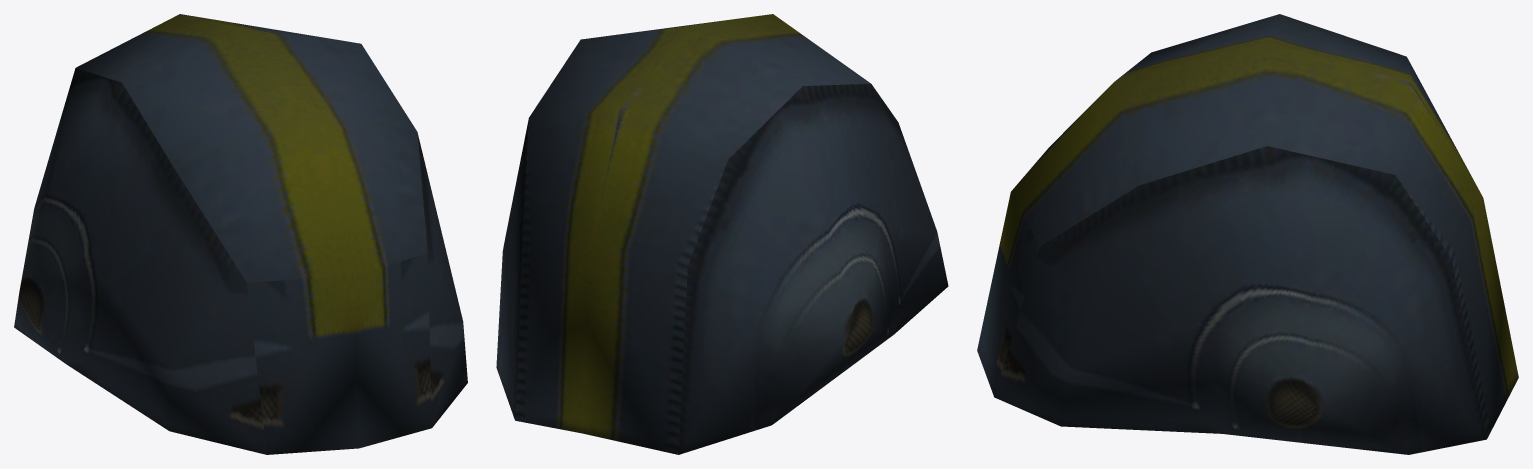
File: Helmet5__MOB.glb
The picture shows the model from 3 angles, left to right: view 1: azimuth 30°, elevation 25°; view 2: azimuth 150°, elevation 25°; view 3: azimuth 270°, elevation 25°; orthographic projection. The views are drawn at different scales.
Visible parts, largest first — view 1: Helmet5; view 2: Helmet5; view 3: Helmet5.
Part boxes in pixels (left/top/right/bottom): Helmet5: left=14, top=14, right=467, bottom=454; Helmet5: left=496, top=14, right=948, bottom=454; Helmet5: left=977, top=14, right=1518, bottom=454.
Bounding box in the file's own units: 12.59 × 11.15 × 15.37.
1 material, 1 textured.
